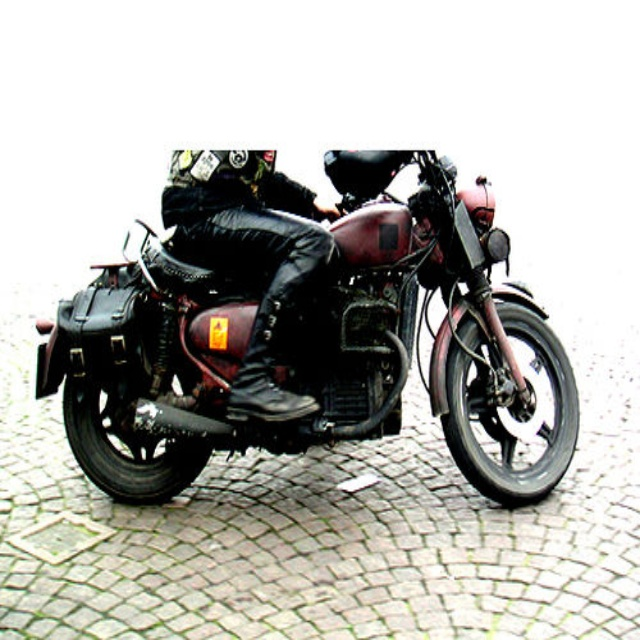Motorcycle: (36, 161, 580, 507)
